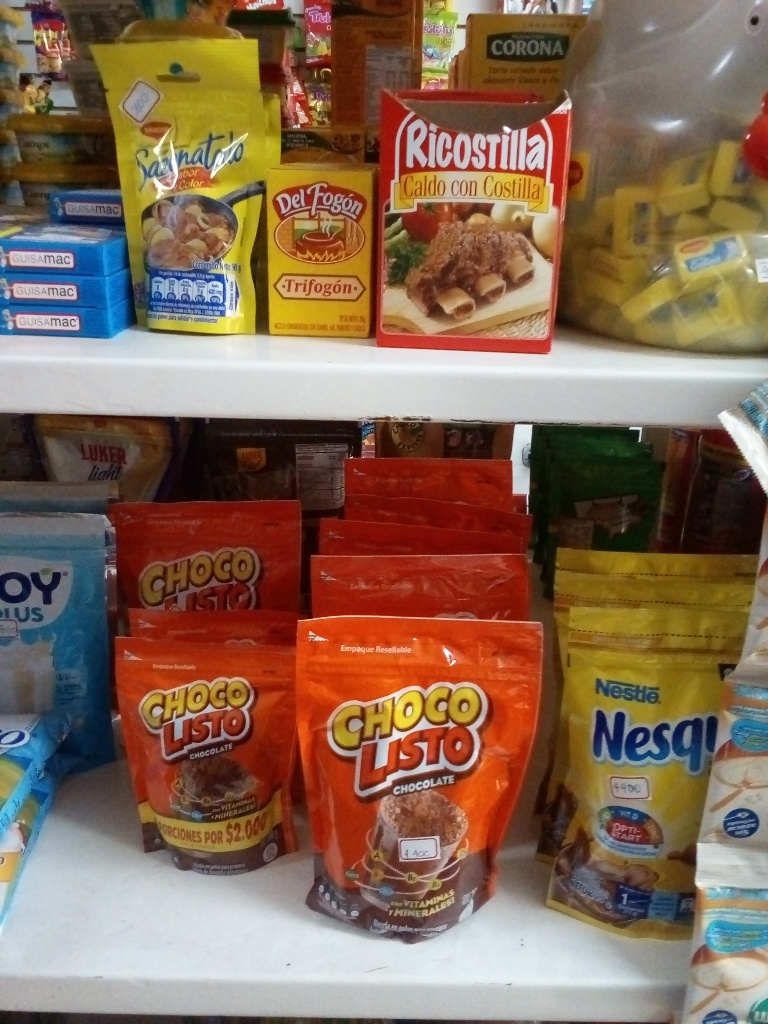COL0170303DYP20000: (551, 608, 738, 959)
